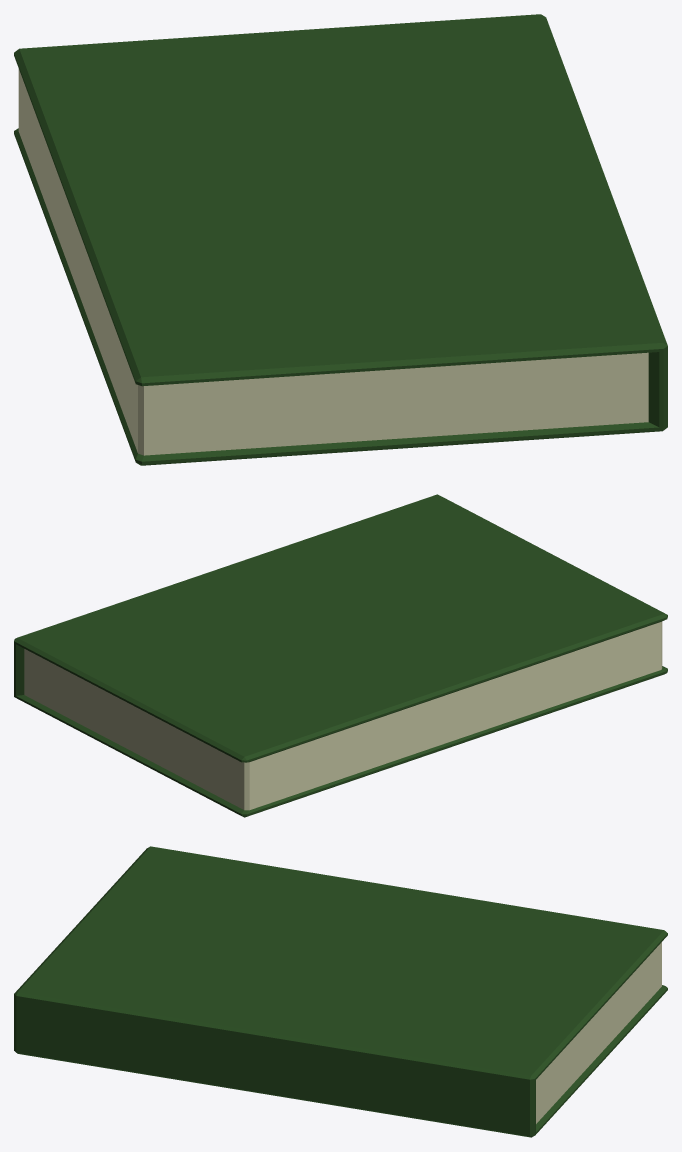
The model's file is BOOK_01.fbx.
3 views of the same model, one above another, from view 1: azimuth 30°, elevation 25°; view 2: azimuth 150°, elevation 25°; view 3: azimuth 270°, elevation 25° (orthographic). The views are drawn at different scales.
Visible parts, largest first — view 1: BOOK_01; view 2: BOOK_01; view 3: BOOK_01.
Boxes of the visible parts, <box> form: BOOK_01: <box>14,14,667,465</box>; BOOK_01: <box>14,494,667,817</box>; BOOK_01: <box>14,846,667,1137</box>.
Bounding box in the file's own units: 12.23 × 1.52 × 14.55.
